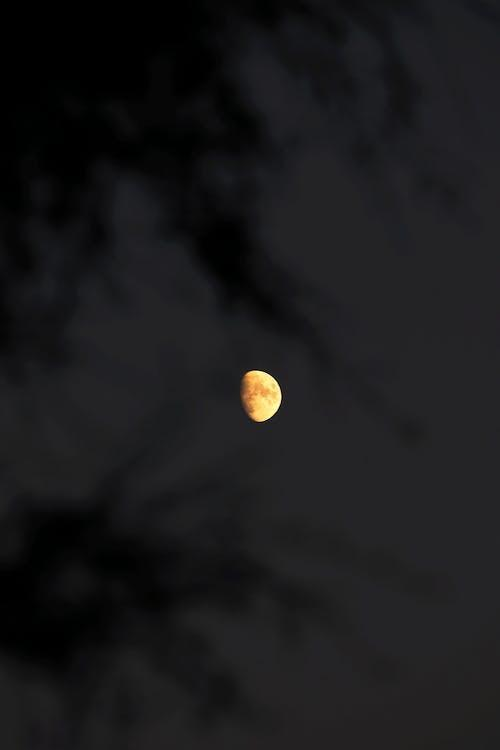moon: (232, 355, 288, 438)
